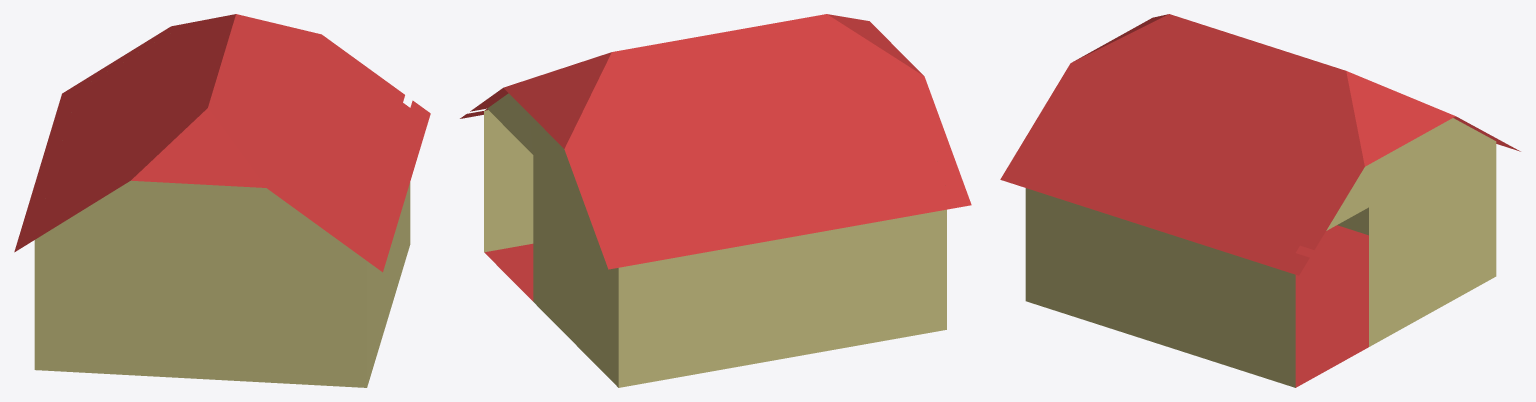
3 views of the same model, side by side, from view 1: azimuth 30°, elevation 25°; view 2: azimuth 150°, elevation 25°; view 3: azimuth 270°, elevation 25° (orthographic). The views are drawn at different scales.
Size of the model in its own units: 28.7 by 28.78 by 14.94.
